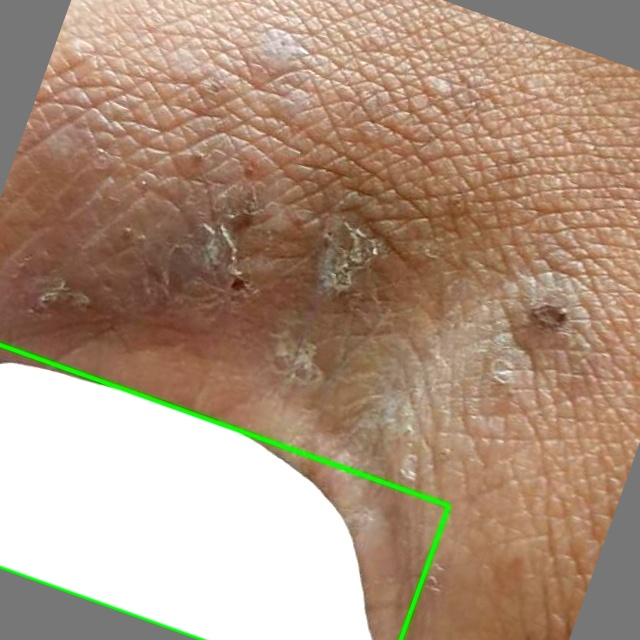Scabies: (0, 344, 448, 639)
